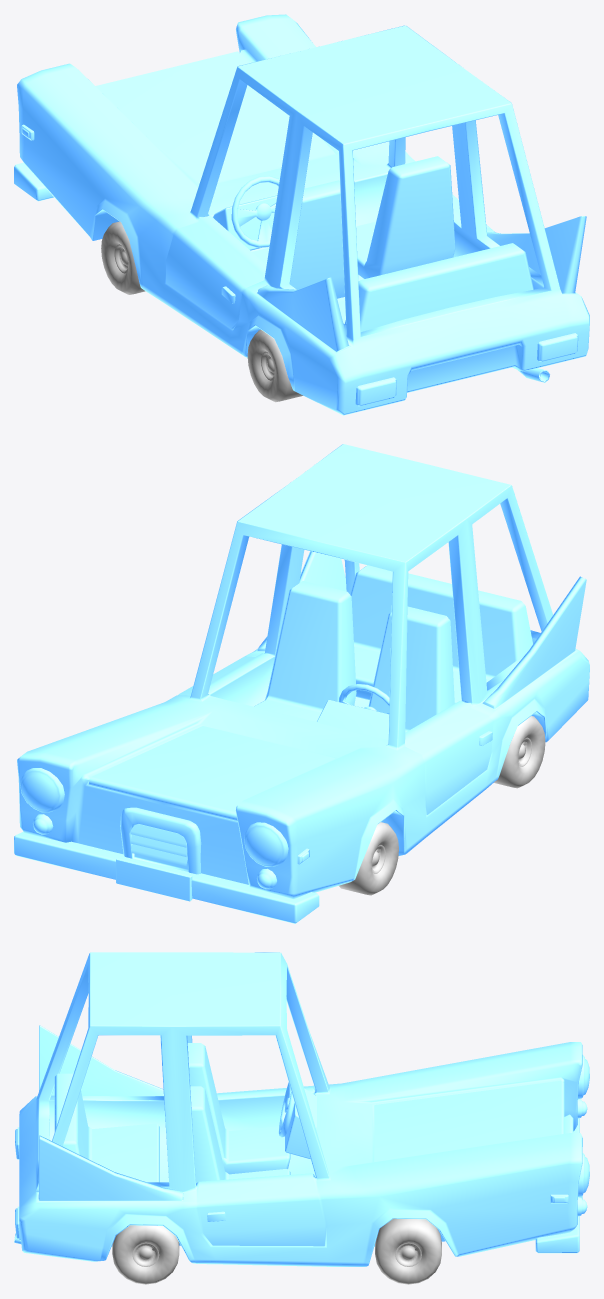
The model's file is Van.fbx.
3 views of the same model, one above another, from view 1: azimuth 30°, elevation 25°; view 2: azimuth 150°, elevation 25°; view 3: azimuth 270°, elevation 25° (orthographic). The views are drawn at different scales.
Parts seen in each view (by area): view 1: Van, car_001:car_001_wheel_LR, car_001:car_001_wheel_LR1; view 2: Van, car_001:car_001_wheel_LR, car_001:car_001_wheel_LR1; view 3: Van, car_001:car_001_wheel_RF, car_001:car_001_wheel_RR.
Part boxes in pixels (x1,y1,x2,y2): Van: (14, 14, 589, 415); car_001:car_001_wheel_LR: (247, 330, 302, 402); car_001:car_001_wheel_LR1: (101, 221, 145, 294); Van: (14, 444, 589, 923); car_001:car_001_wheel_LR: (494, 716, 545, 788); car_001:car_001_wheel_LR1: (339, 822, 398, 895); Van: (14, 952, 589, 1266); car_001:car_001_wheel_RF: (375, 1218, 441, 1284); car_001:car_001_wheel_RR: (112, 1225, 179, 1284).
Size of the model in its own units: 1.96 by 1.77 by 3.85.
